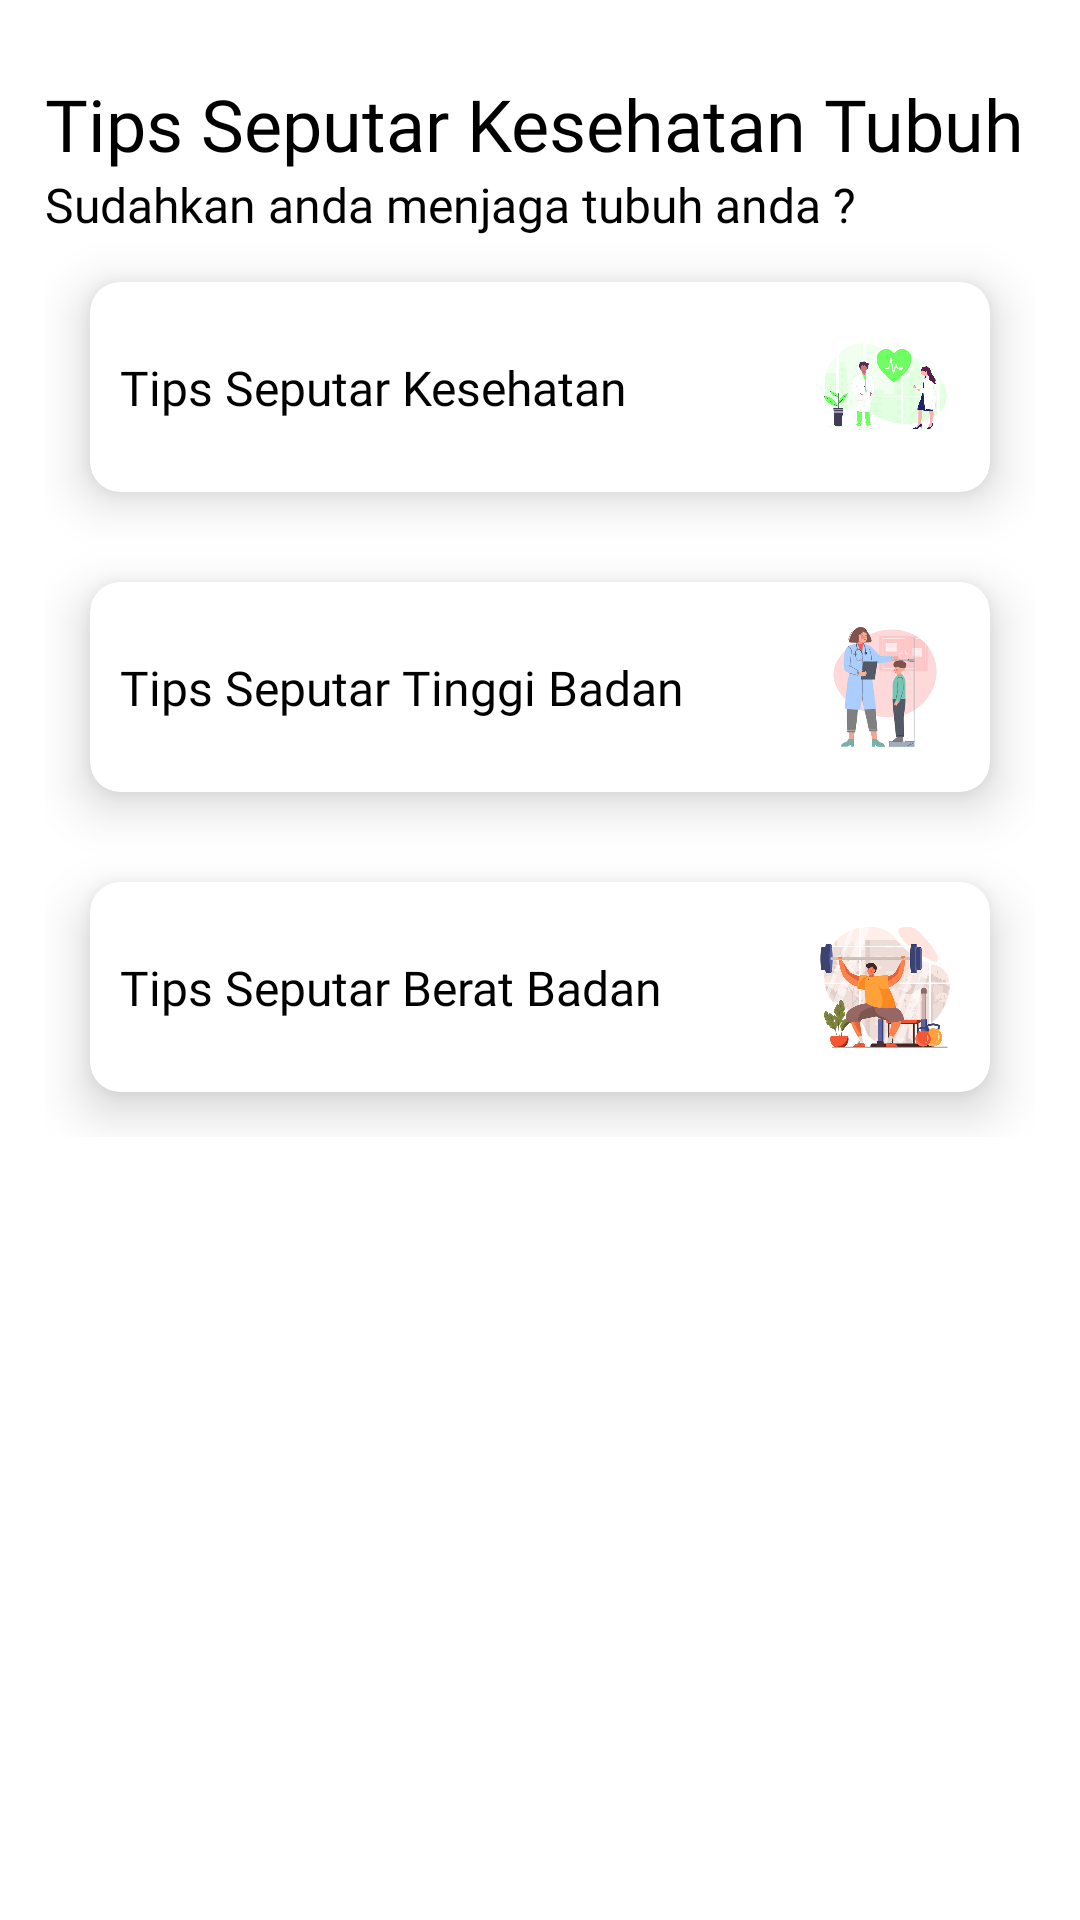

Icons on this 1080px×1920px Android screen, each with the point to tap as point (x, y):
healty: point (885, 389)
height ilus: point (885, 687)
weight ilus: point (885, 987)
